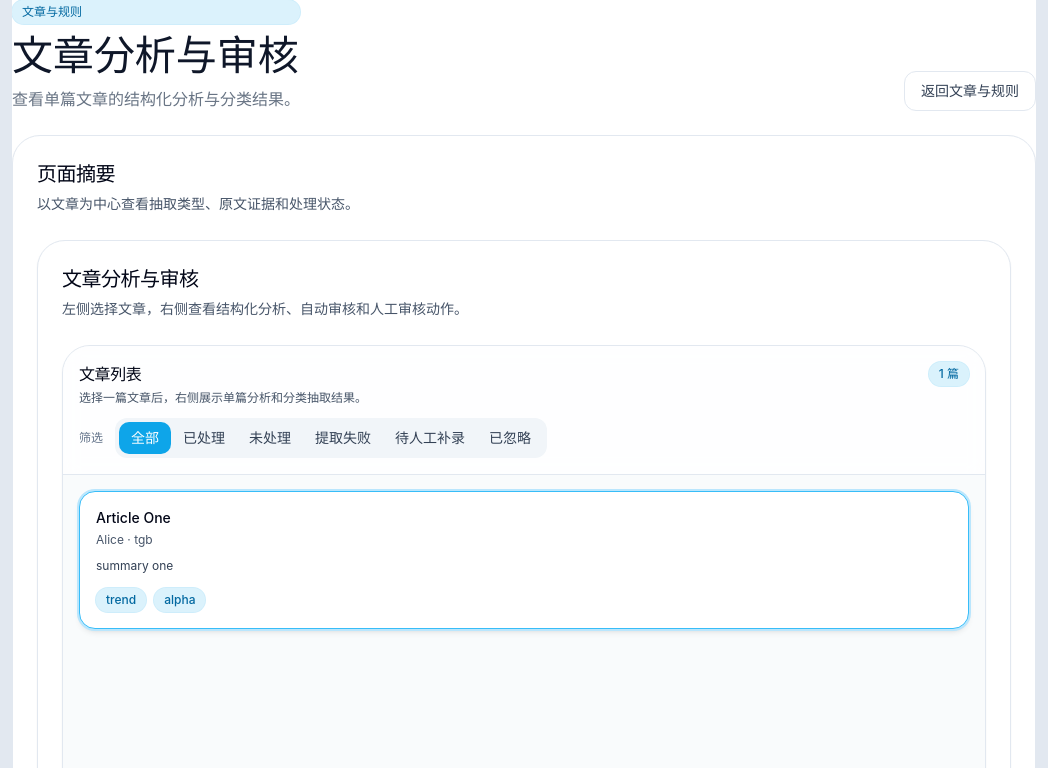
ArticlesPage › shows failed articles in the same results page and supports retry and manual actions
The width and height of the screenshot is (1048, 768).
Click the button "提取失败": [343, 438] box left=303, top=422, right=383, bottom=454
(page scrolled)
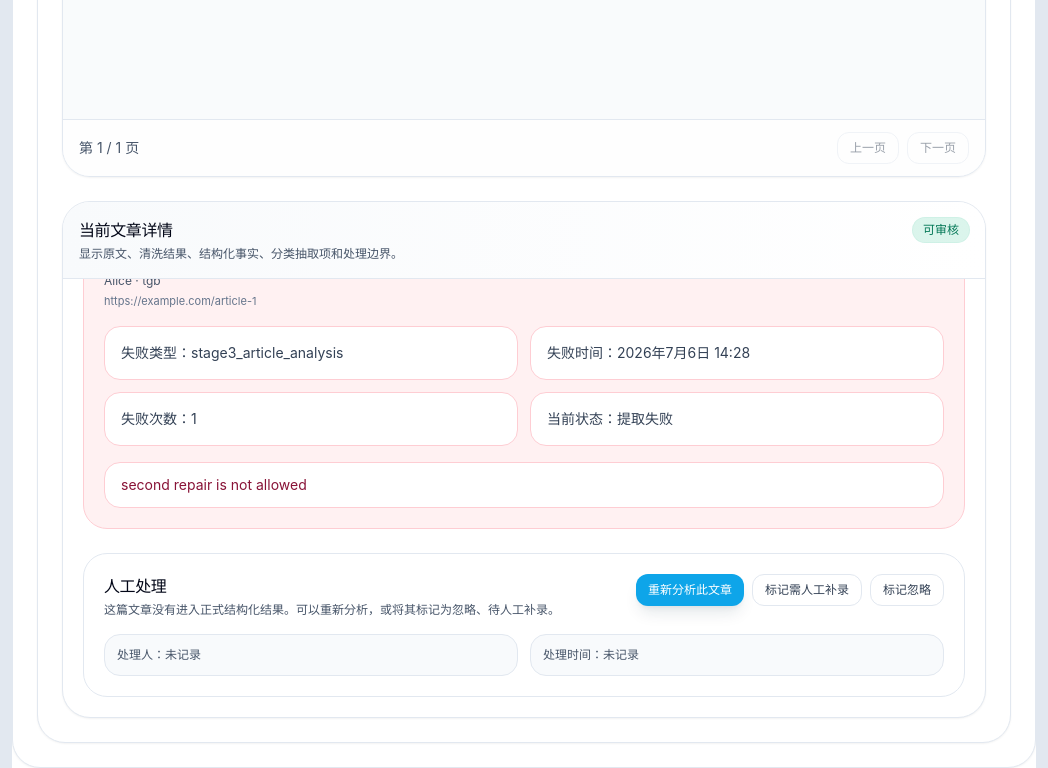
Expected: the text "second repair is not allowed" is shown, left=104, top=462, right=944, bottom=508
Click the button "重新分析此文章": [690, 590] box left=636, top=574, right=744, bottom=606
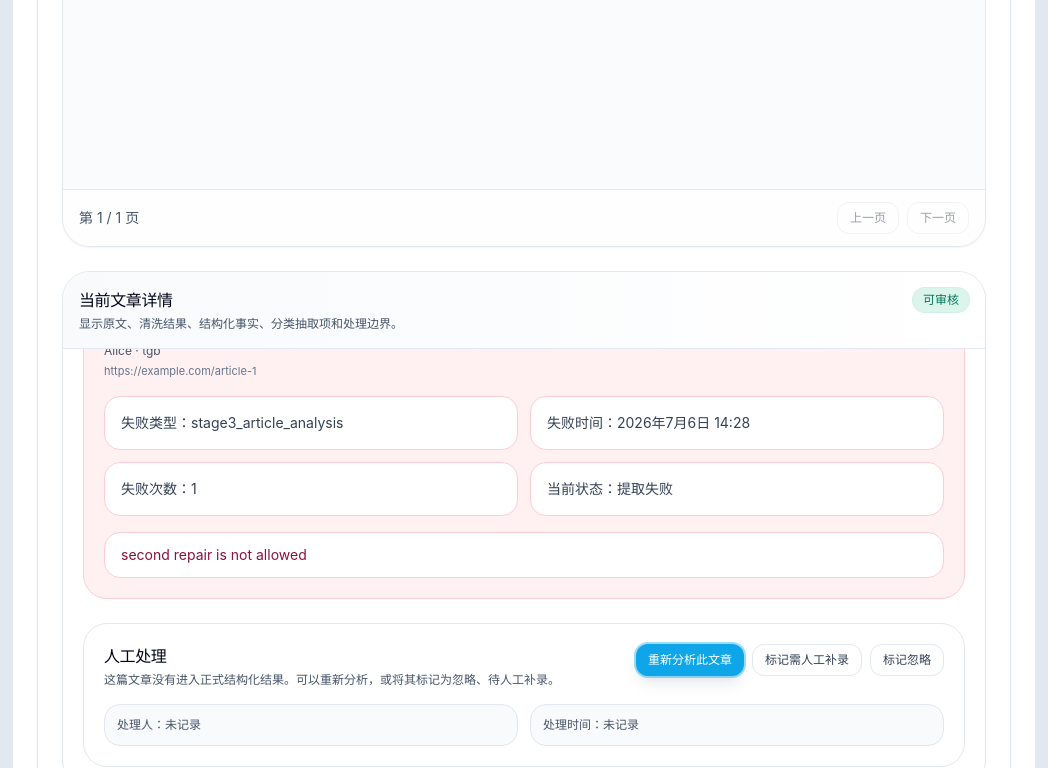
Click the button "标记需人工补录": [807, 660] box left=752, top=644, right=862, bottom=676
(page scrolled)
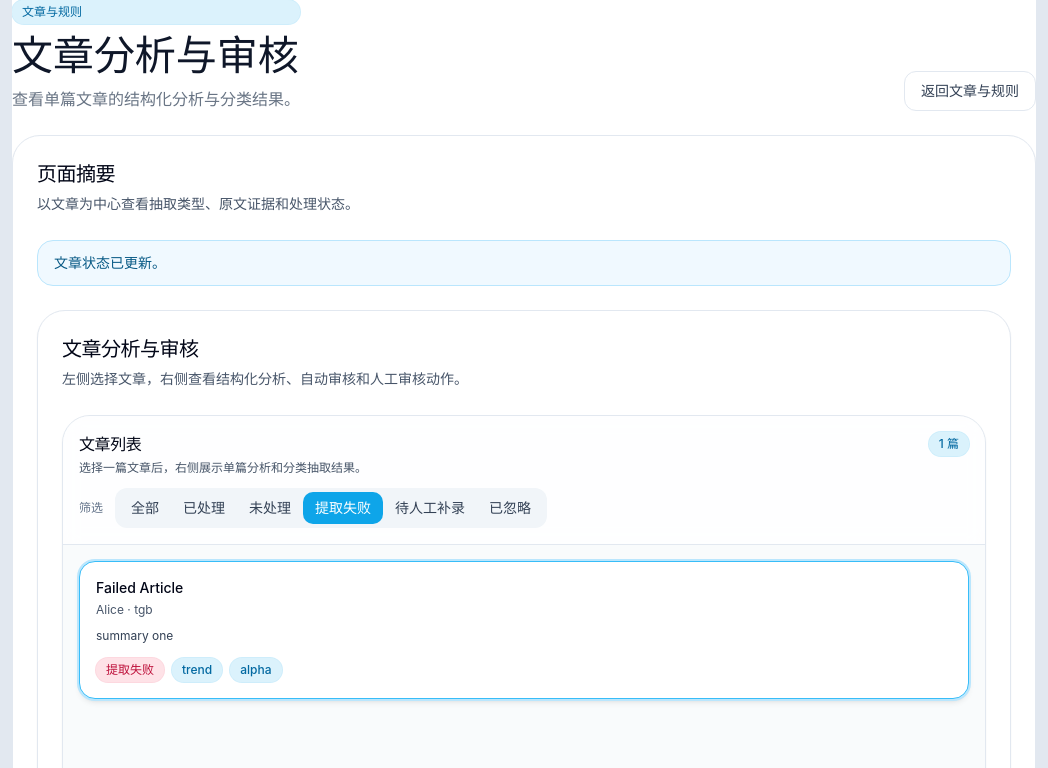
Expected: the text "文章状态已更新。" is shown, left=37, top=240, right=1011, bottom=286
